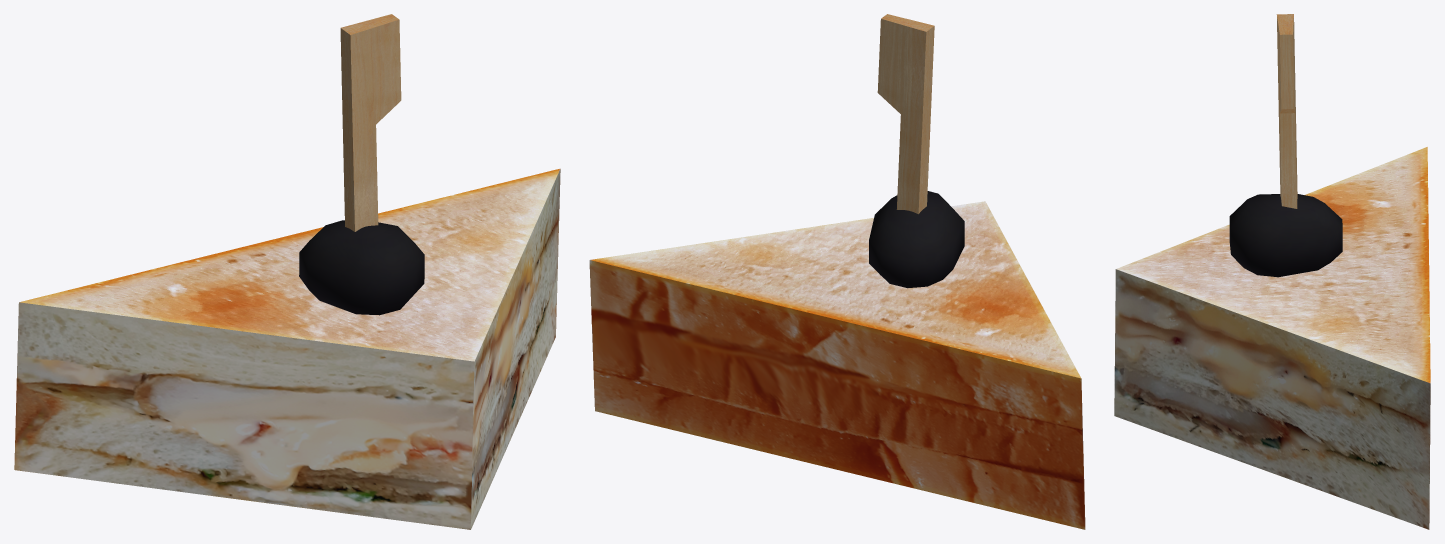
Rendered from BuffetSnacks01_4.FBX.
3 renders of one model, left to right at view 1: azimuth 30°, elevation 25°; view 2: azimuth 150°, elevation 25°; view 3: azimuth 270°, elevation 25°, orthographic. The views are drawn at different scales.
Visible parts, largest first — view 1: BuffetSnacks01_4; view 2: BuffetSnacks01_4; view 3: BuffetSnacks01_4.
Boxes of the visible parts, <box> form: BuffetSnacks01_4: <box>14,14,560,529</box>; BuffetSnacks01_4: <box>589,14,1085,529</box>; BuffetSnacks01_4: <box>1114,14,1430,529</box>.
Size of what is drawn, in the model's own units: 0.1719 by 0.1312 by 0.0963.
